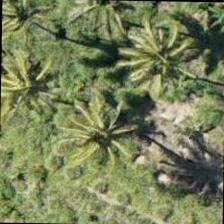Kelapa_Sawit: (111, 8, 203, 100), (75, 89, 166, 181), (0, 46, 74, 138), (1, 0, 69, 60)
